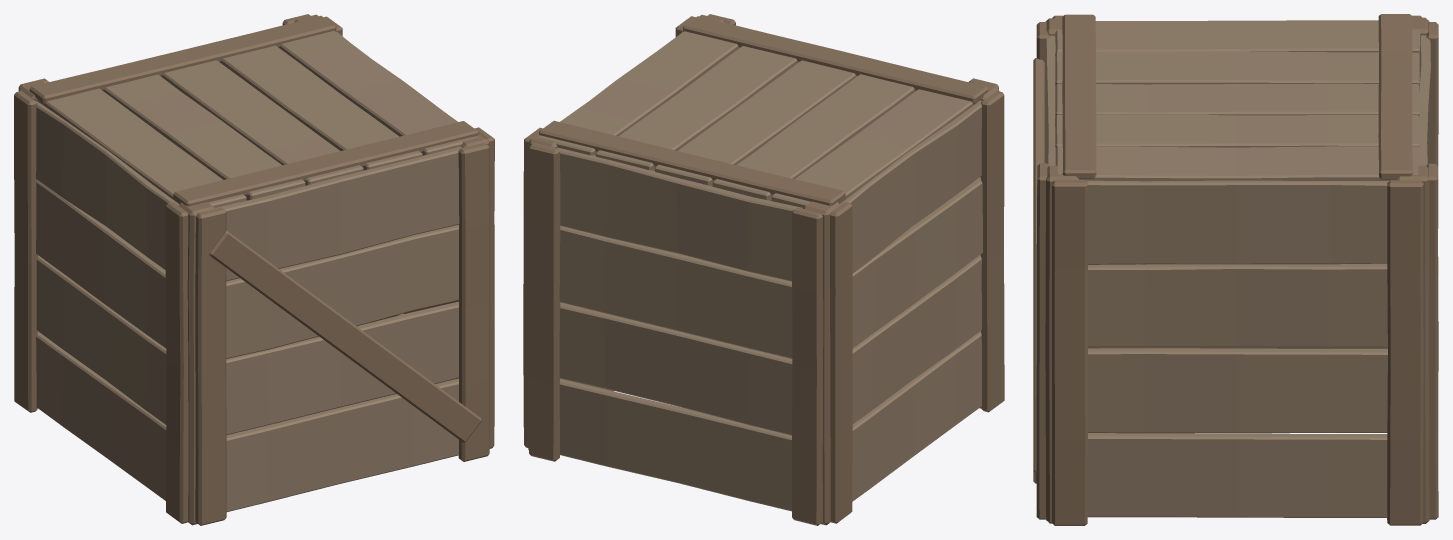
File: crate.glb
The picture shows the model from 3 angles, left to right: view 1: azimuth 30°, elevation 25°; view 2: azimuth 150°, elevation 25°; view 3: azimuth 270°, elevation 25°; orthographic projection. The views are drawn at different scales.
Parts seen in each view (by area): view 1: crate; view 2: crate; view 3: crate.
Part boxes in pixels (x1,y1,x2,y2): crate: (14,14,494,525); crate: (523,14,1004,525); crate: (1033,14,1438,525).
Bounding box in the file's own units: 0.8399 × 0.8121 × 0.8465.
